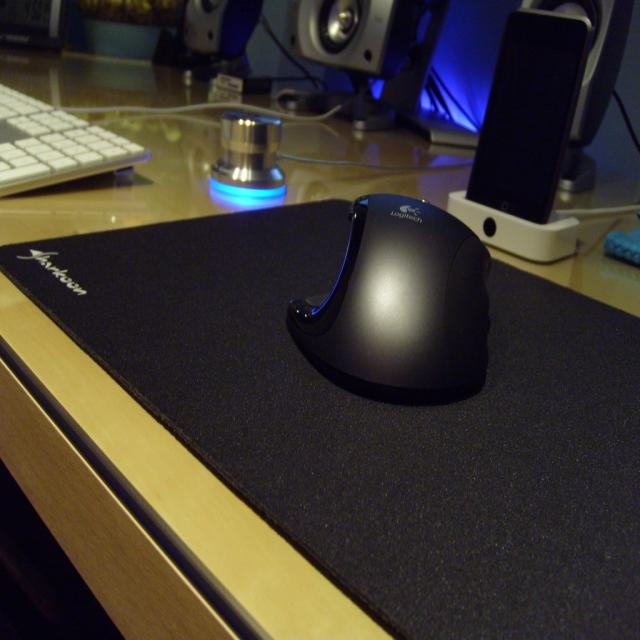Computer-mouse: (288, 187, 490, 402)
